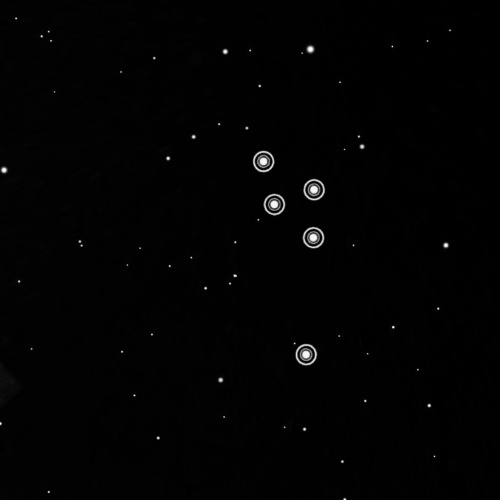delphinus: (241, 142, 331, 378)
